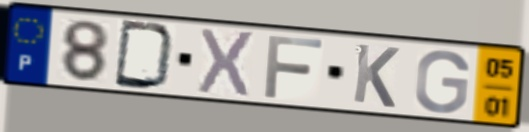8: (57, 18, 113, 83)
D: (111, 17, 179, 93)
F: (261, 33, 326, 101)
G: (412, 48, 473, 116)
K: (350, 41, 402, 111)
X: (194, 25, 258, 101)
